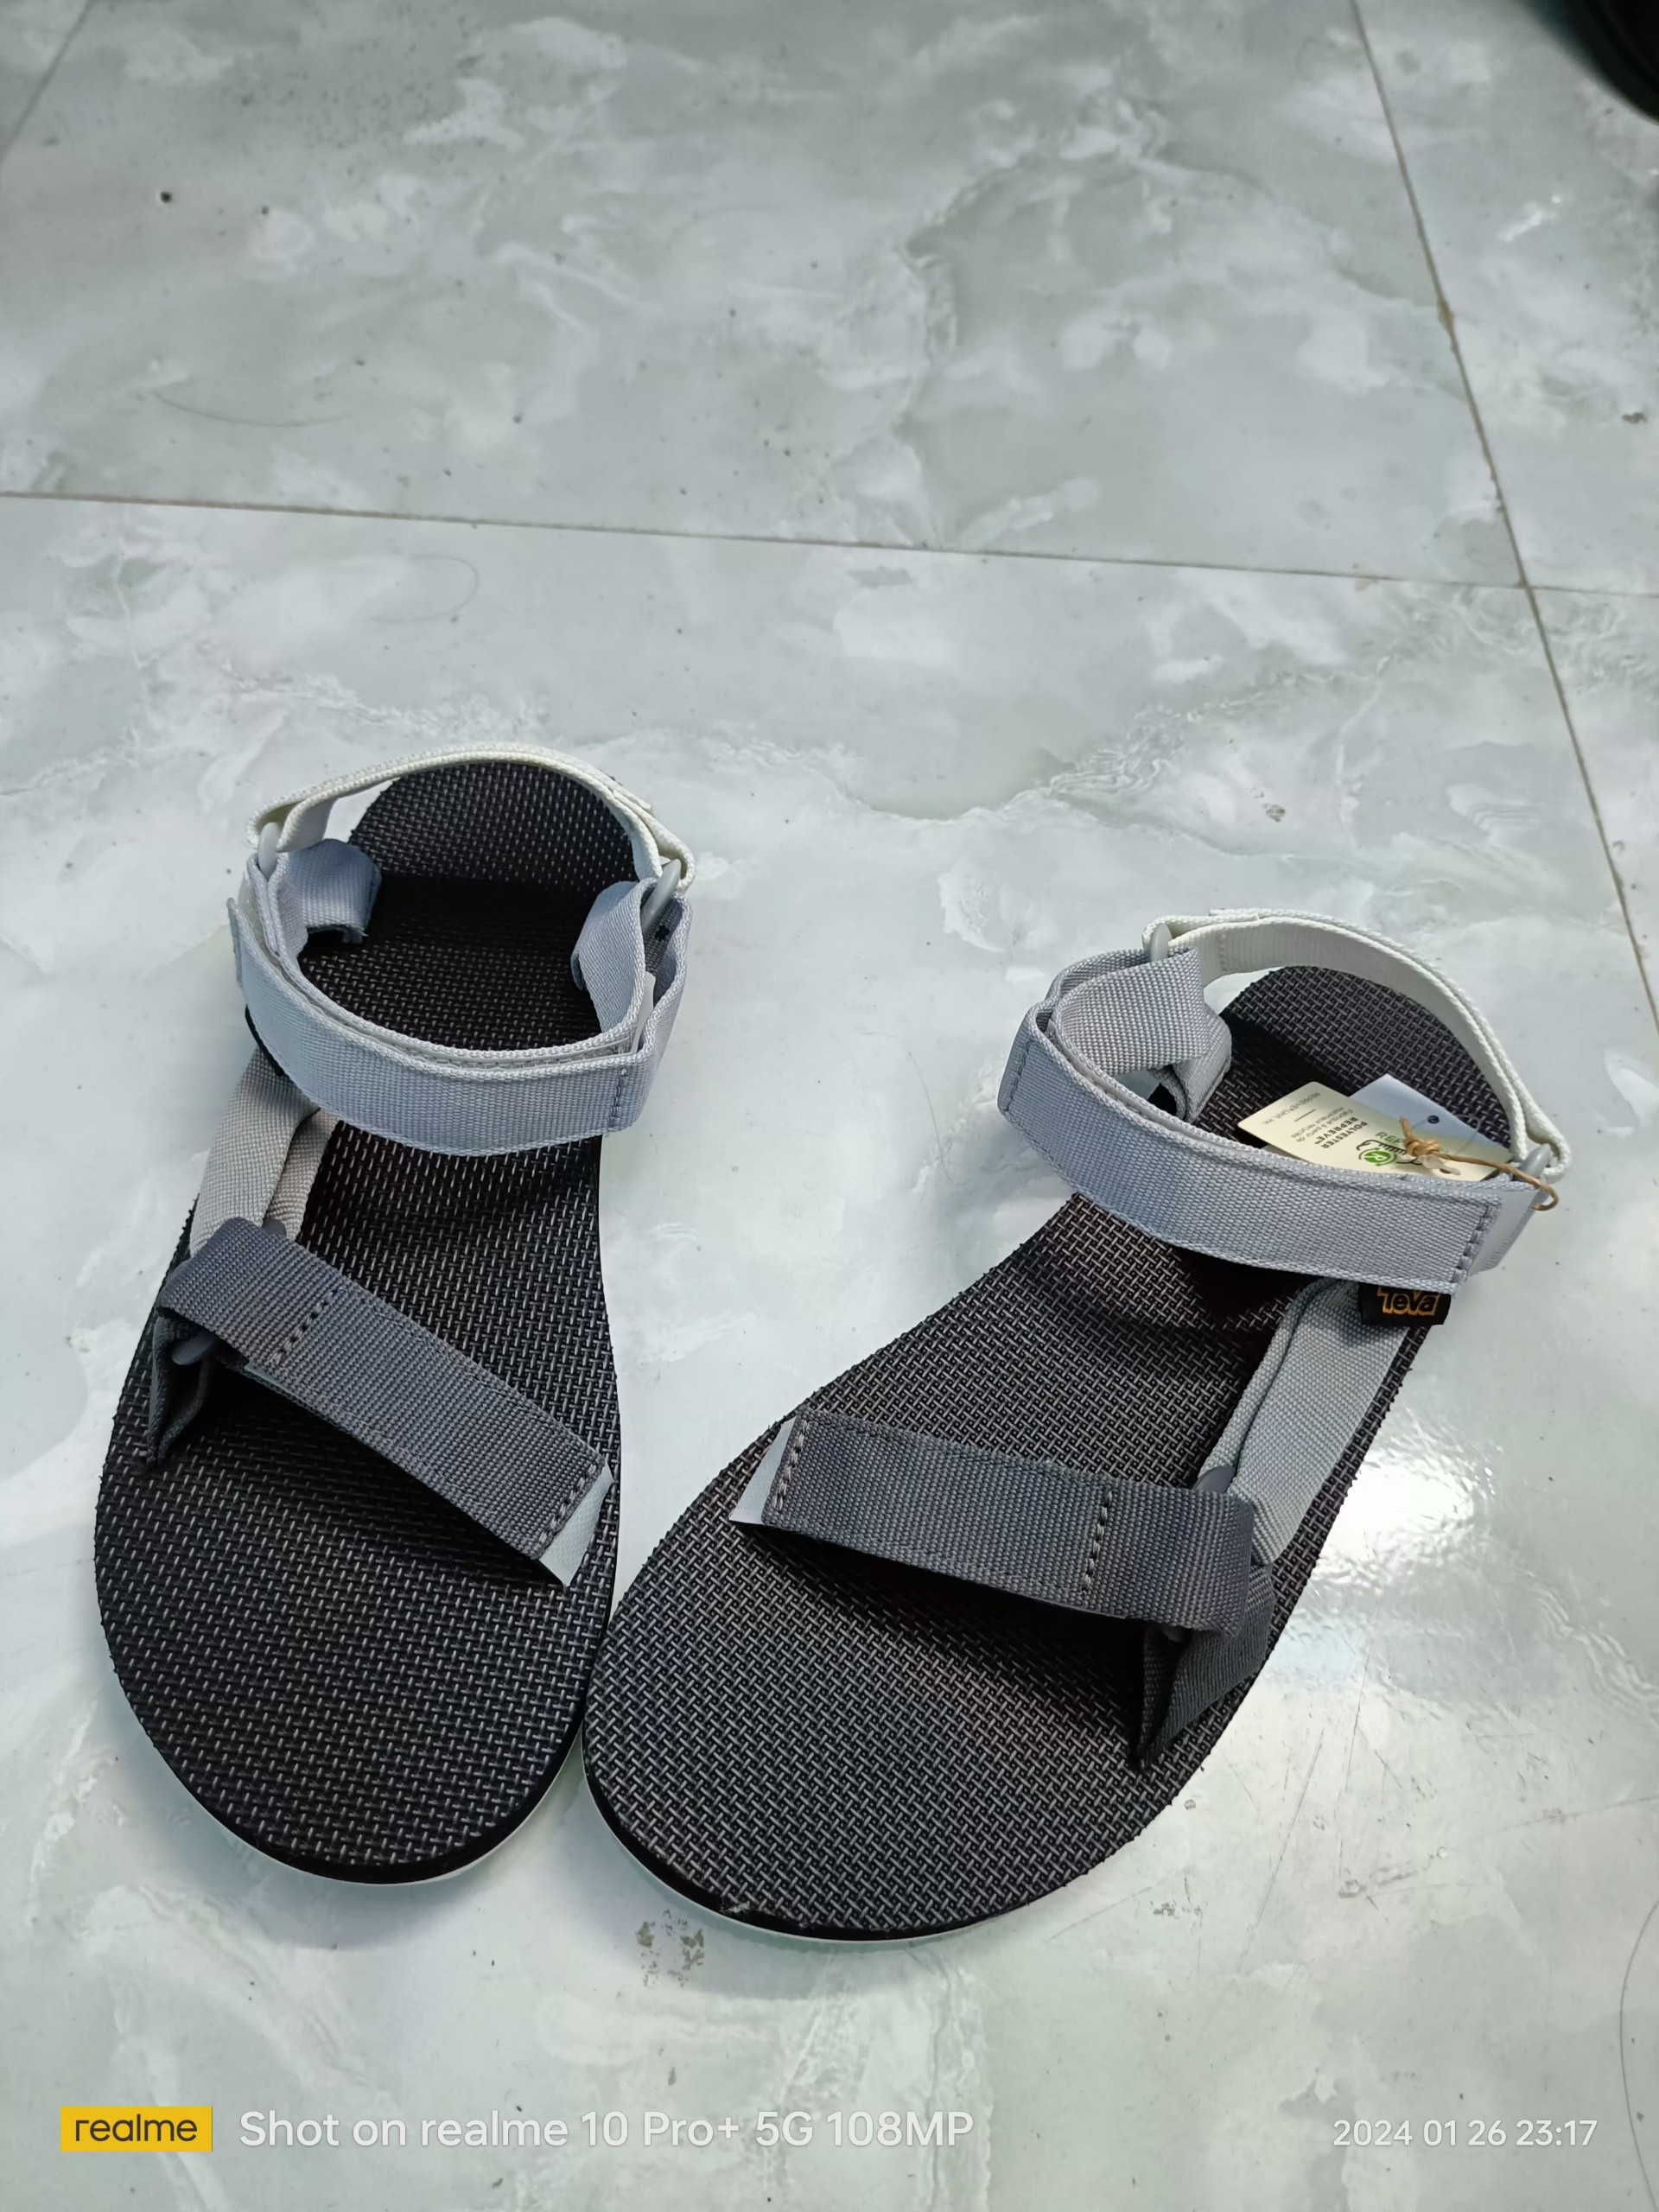sandals: (573, 907, 1572, 1959), (85, 745, 695, 1892)
